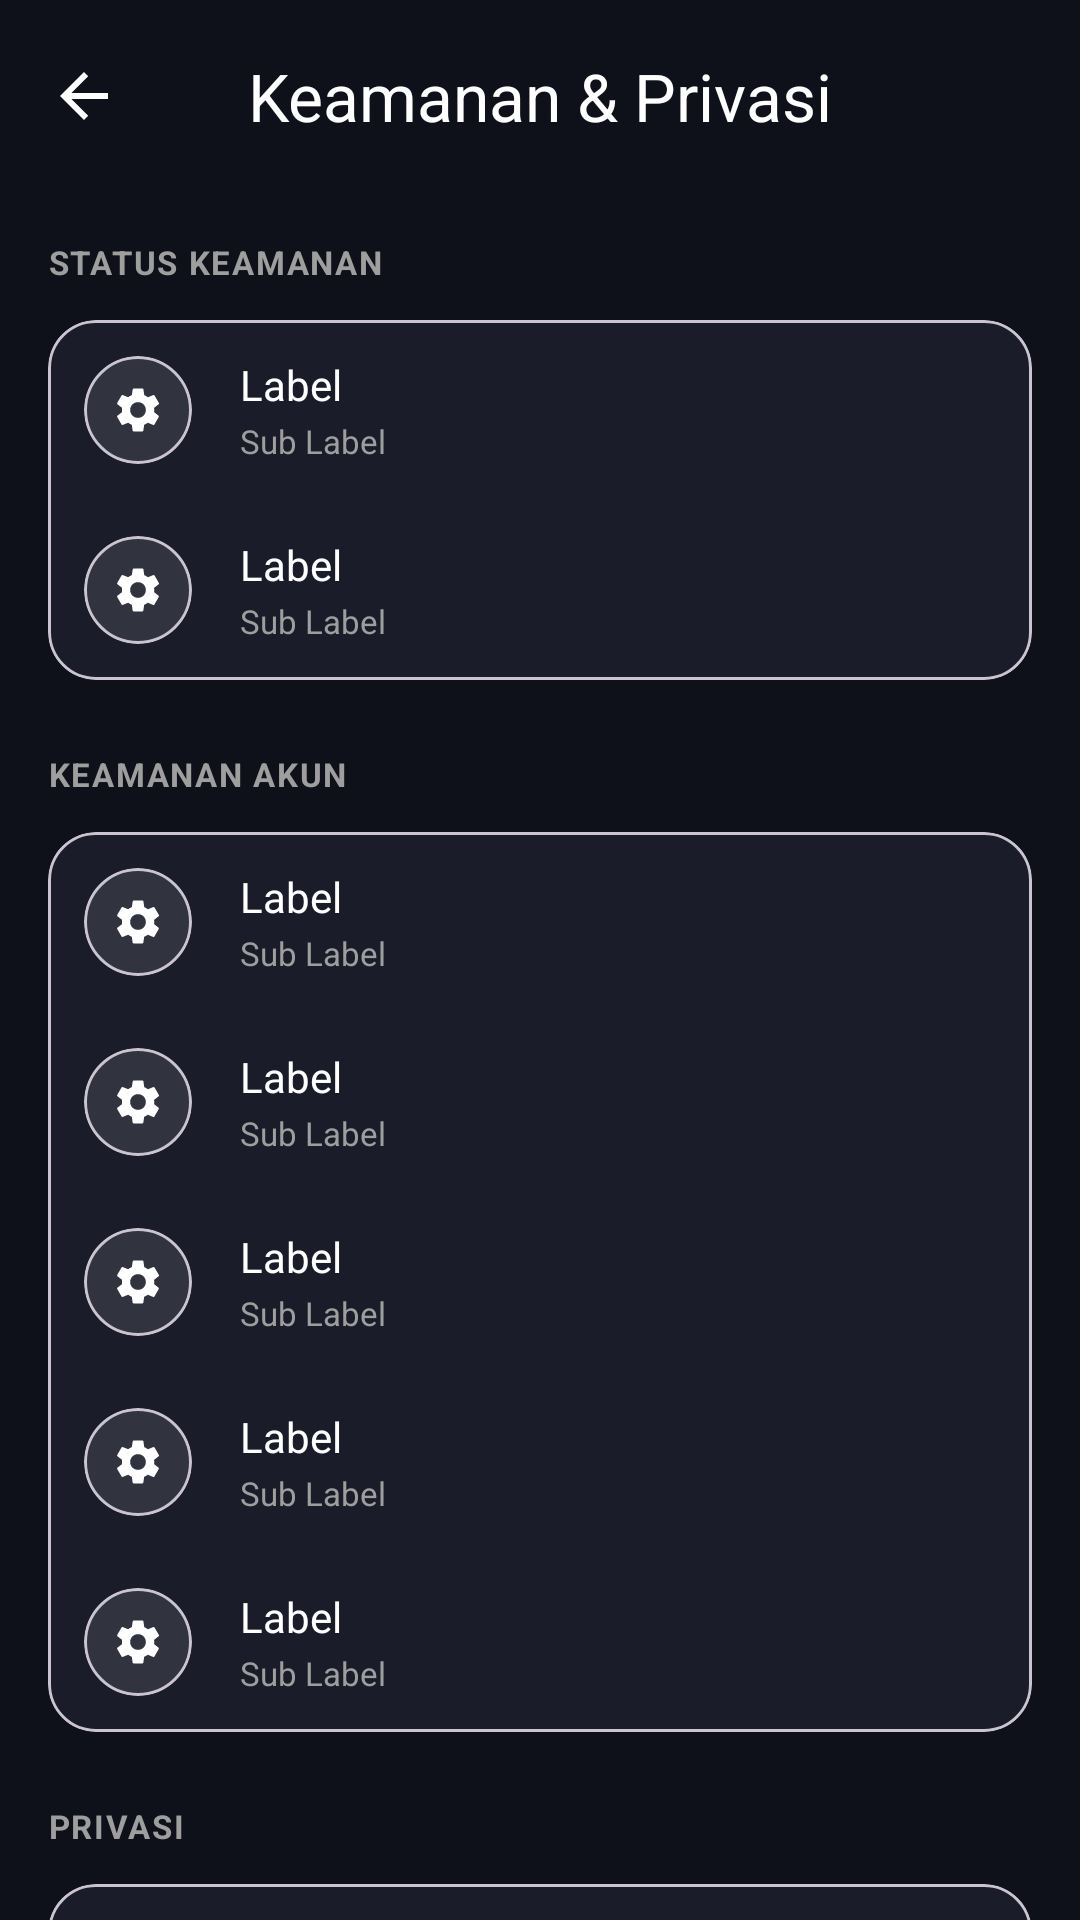

Screen size 1080px x 1920px. Icon name, then its center in pixels as (x,y):
settings: (138,410), (138,590), (138,922), (138,1102), (138,1282), (138,1462), (138,1642)
